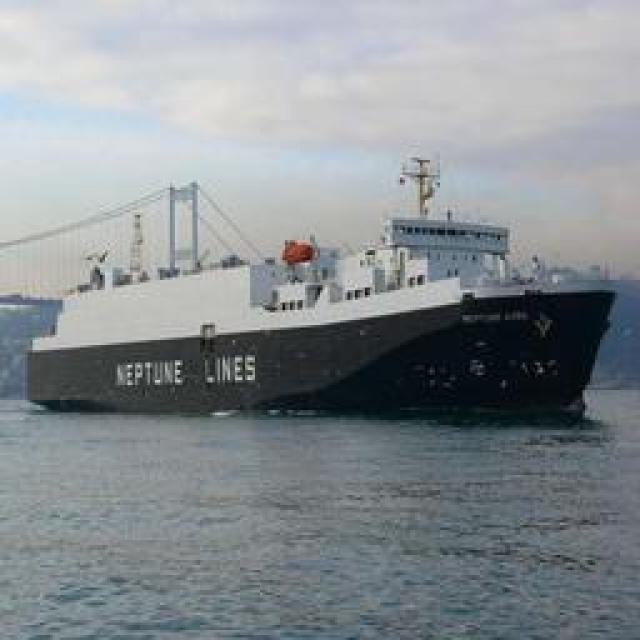CIV_Ship: (22, 166, 620, 416)
